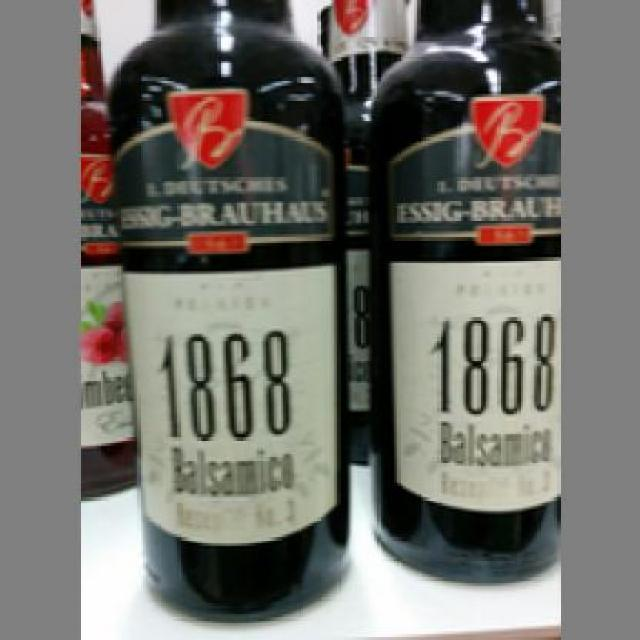Vinegar: (106, 0, 352, 617), (366, 0, 560, 586)
